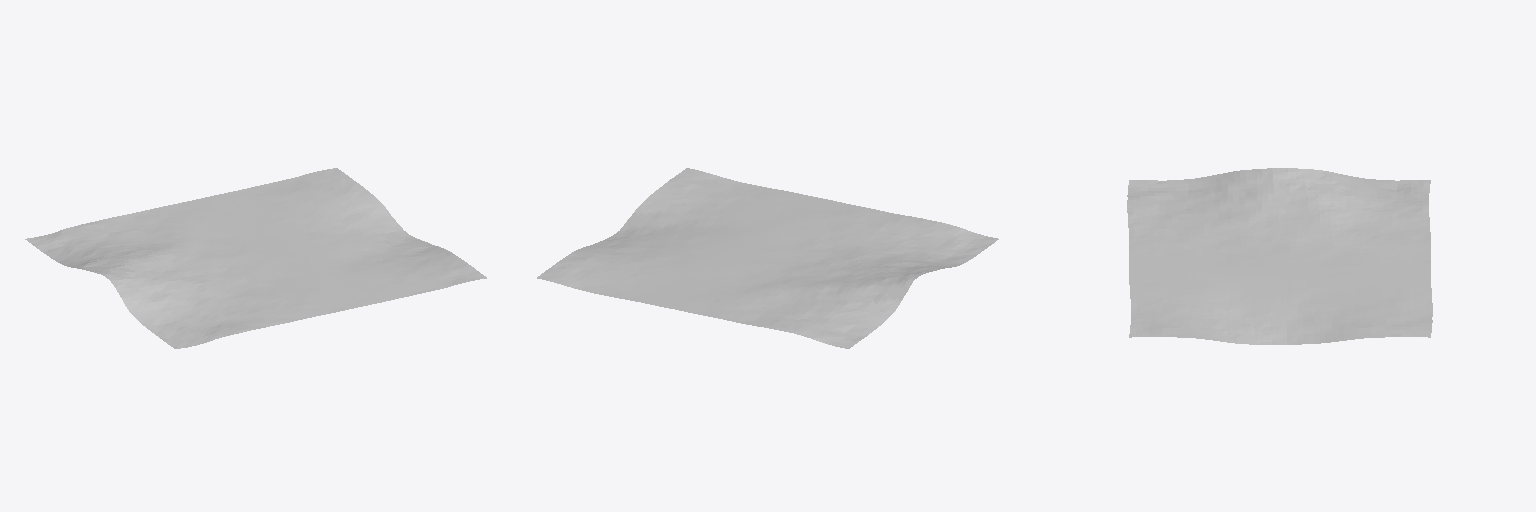
The model's file is sand.obj.
The picture shows the model from 3 angles: view 1: azimuth 30°, elevation 25°; view 2: azimuth 150°, elevation 25°; view 3: azimuth 270°, elevation 25°; orthographic projection.
Visible parts, largest first — view 1: Plane; view 2: Plane; view 3: Plane.
Part boxes in pixels (left/top/right/bottom): Plane: left=25, top=168, right=486, bottom=348; Plane: left=537, top=168, right=998, bottom=348; Plane: left=1127, top=168, right=1432, bottom=344.
Size of the model in its own units: 214 by 19.18 by 180.